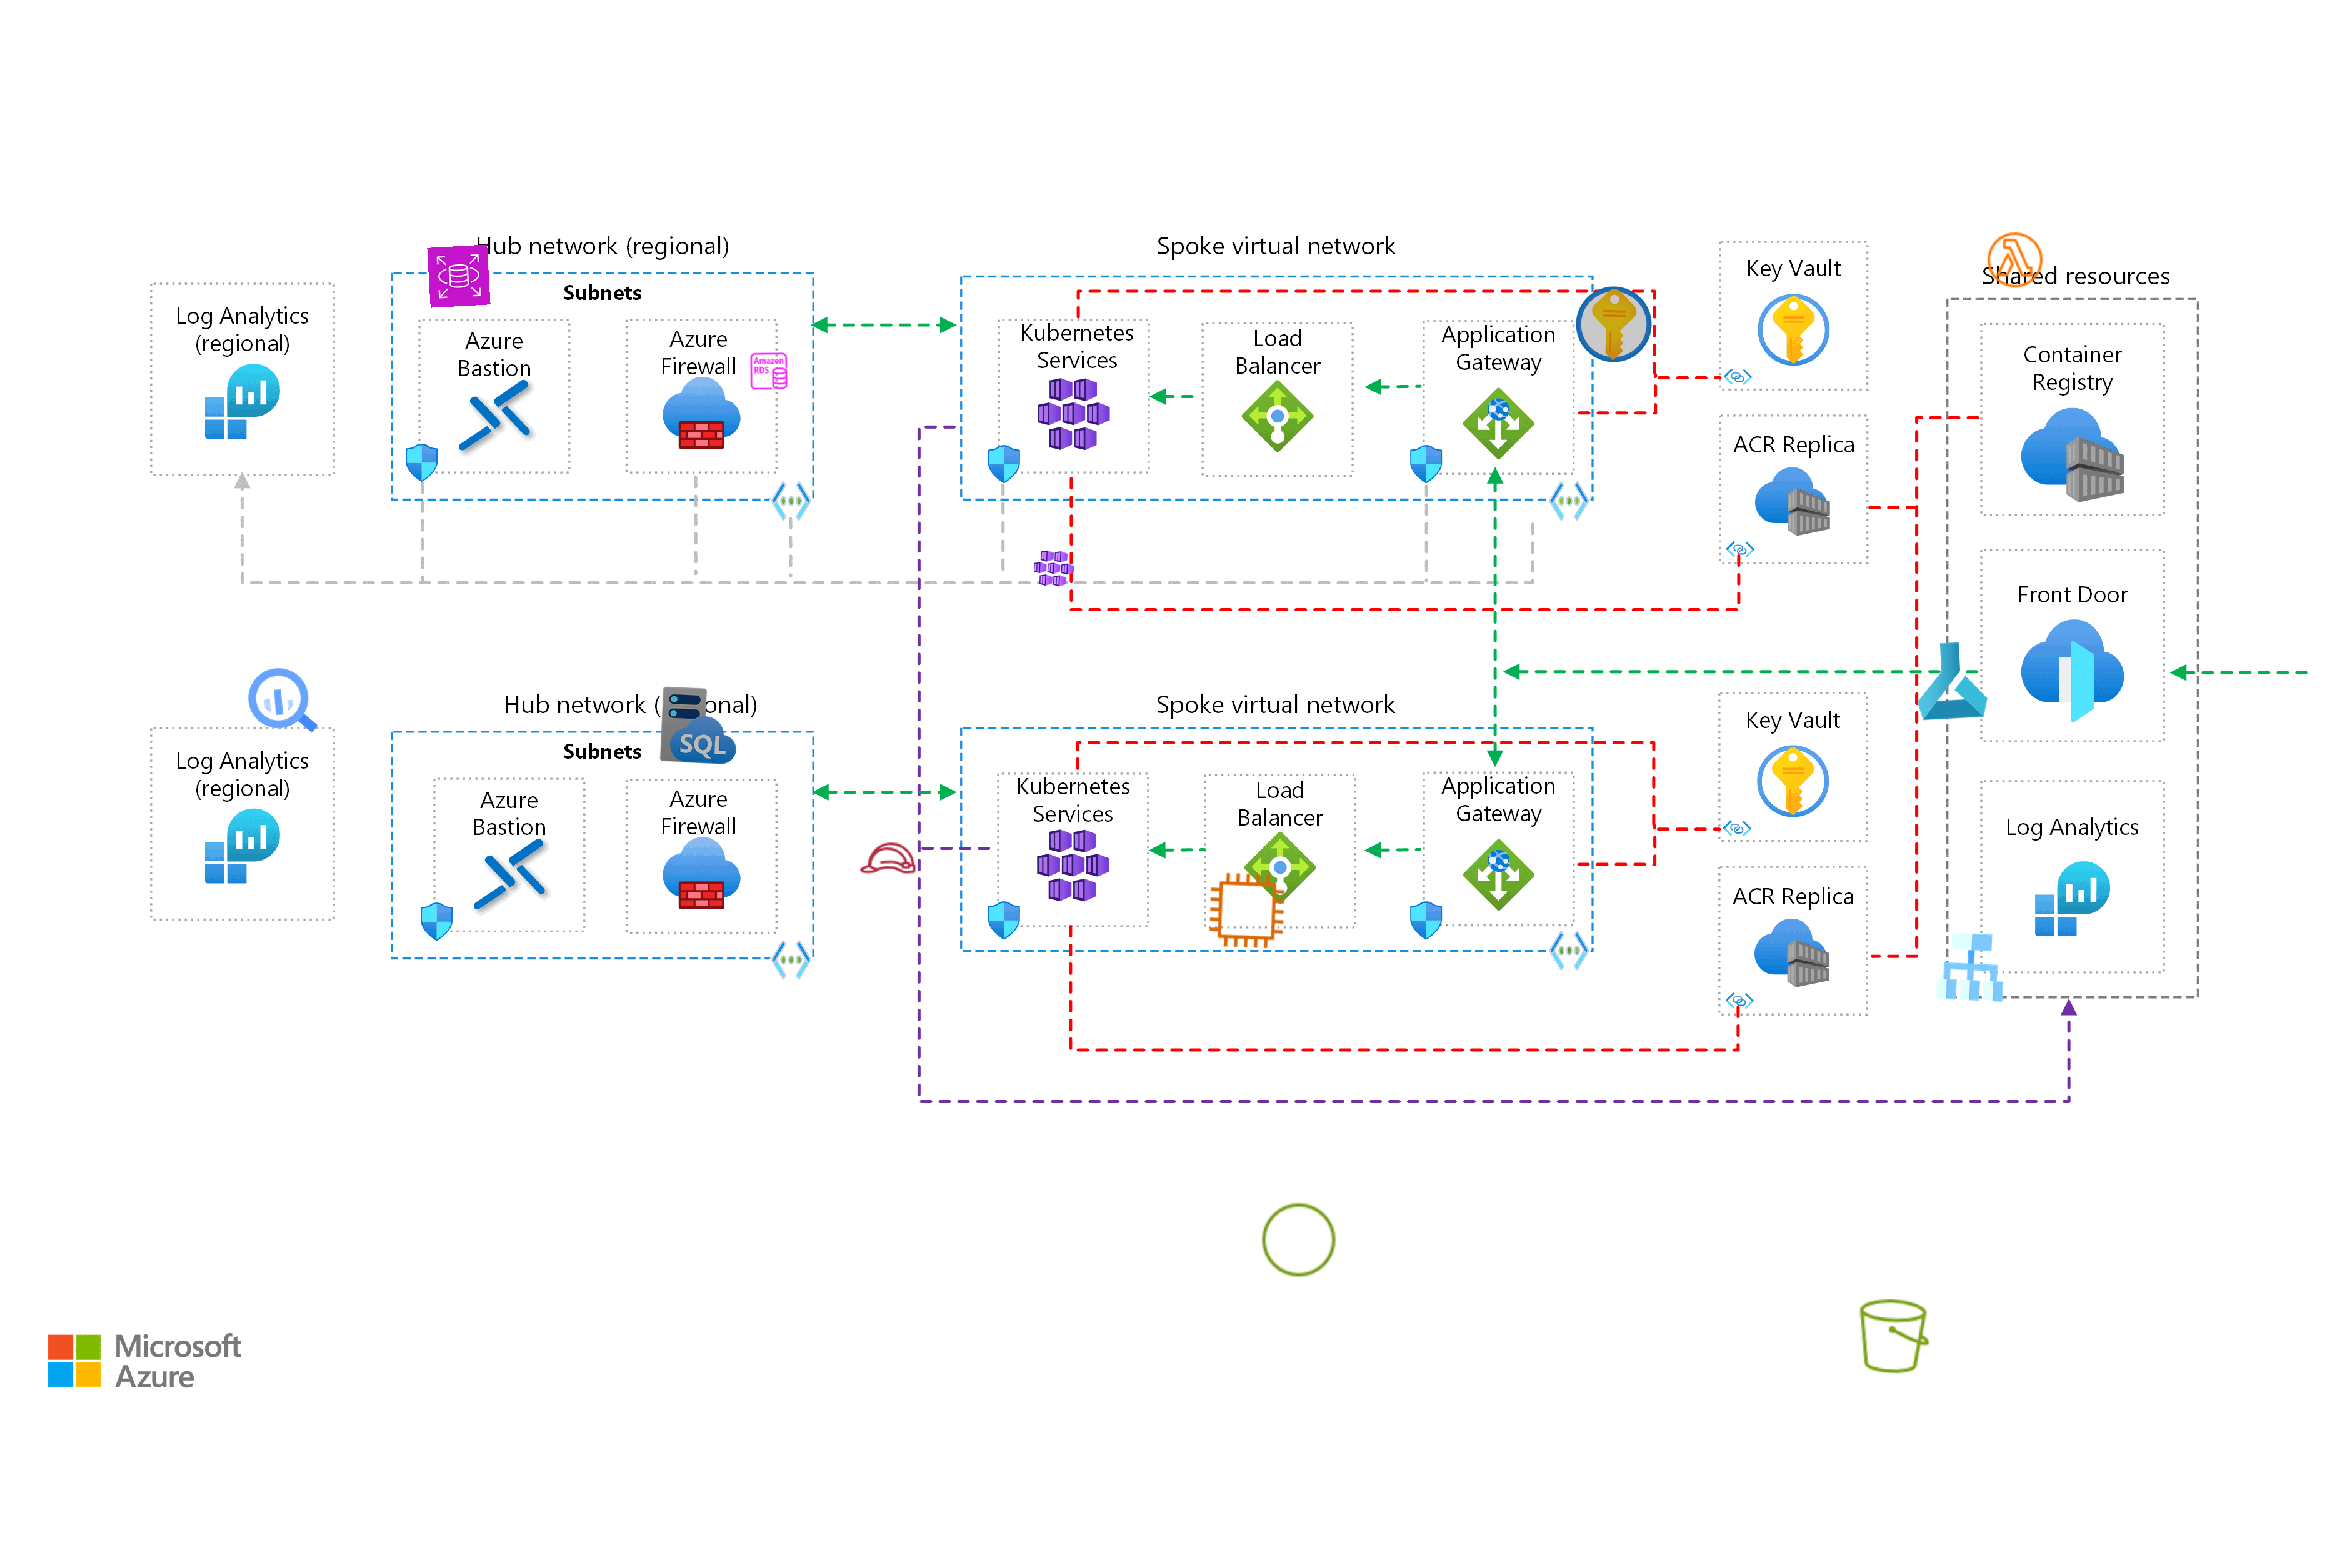aws_amazon_rds: (427, 245, 490, 308)
aws_aurora_amazon_rds_instance: (749, 350, 789, 392)
aws_ec2_instance: (1206, 868, 1288, 952)
aws_identity_access_management_role: (856, 826, 921, 891)
aws_lambda_lambda_function: (1985, 229, 2046, 290)
aws_simple_storage_service_bucket: (1851, 1293, 1936, 1379)
aws_simple_storage_service_object: (1258, 1199, 1339, 1281)
azure_key_vaults: (1571, 282, 1656, 366)
azure_kubernetes_services: (1032, 546, 1075, 590)
azure_machine_learning: (1909, 639, 1993, 723)
azure_sql_managed_instance: (658, 684, 742, 768)
gcp_bigquery: (238, 658, 325, 746)
gcp_cloud_load_balancing: (1928, 926, 2012, 1008)
